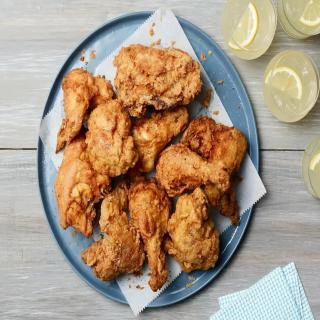fried_chicken_rice: (48, 36, 258, 293)
meat: (57, 66, 250, 294), (112, 41, 207, 128)
